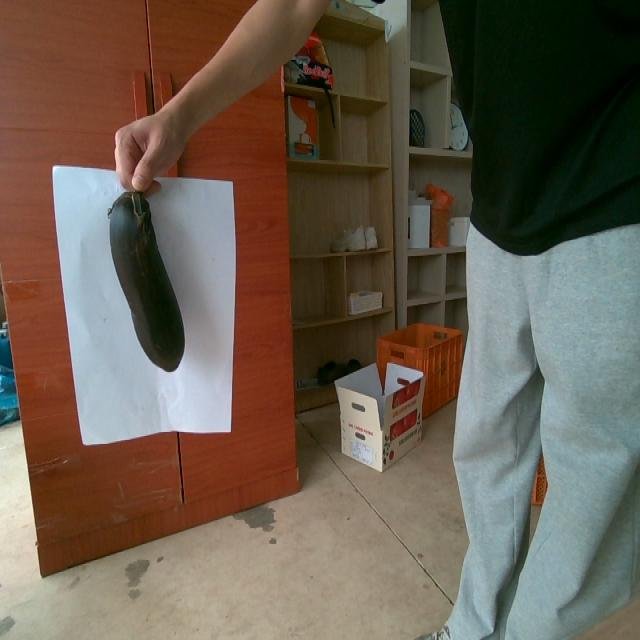Egg plant: (108, 192, 184, 371)
